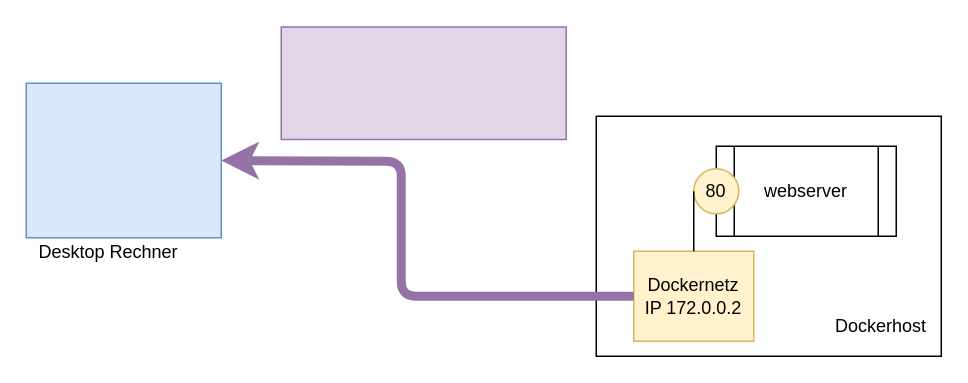
The diagram is 968 pixels wide and 383 high, and some of its shapes have lost their labels. Each missing label, with the centre of its shape:
Browser auf http://localhost:8080 erreicht Webserver im Container: the point at 123,160
SSH Tunnel: Dockerhost IP 172.0.0.2 Port 80 nach Desktop Port 8080: the point at 423,83
